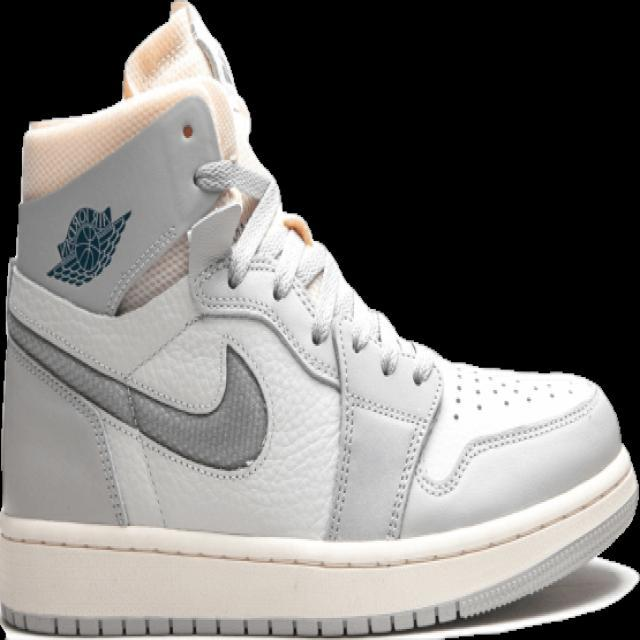J1_InsoleChar: (0, 0, 638, 638)
J1_ShoeLogo: (16, 79, 245, 315), (45, 203, 132, 287)
J1_StitchPattern: (0, 456, 637, 635), (189, 156, 442, 540), (0, 556, 637, 638), (322, 310, 442, 541), (6, 331, 132, 526), (416, 391, 599, 499), (191, 155, 317, 300), (383, 357, 444, 540), (448, 360, 585, 421), (323, 312, 357, 541)
